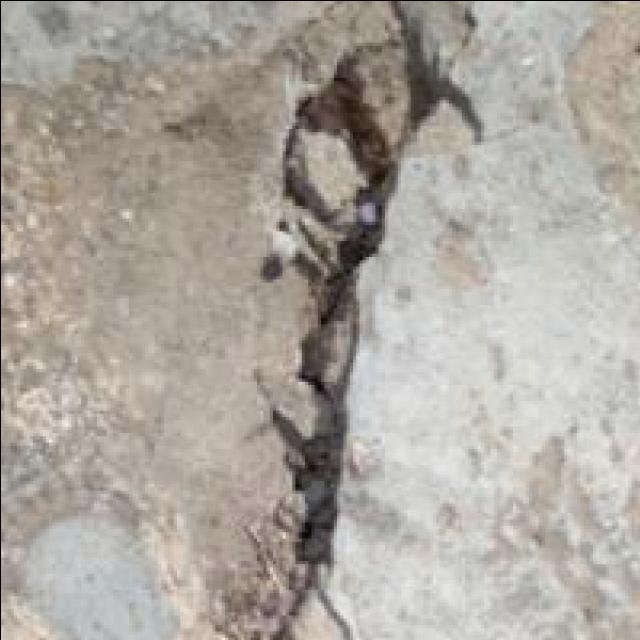SurfaceCrack: (200, 0, 504, 640)
